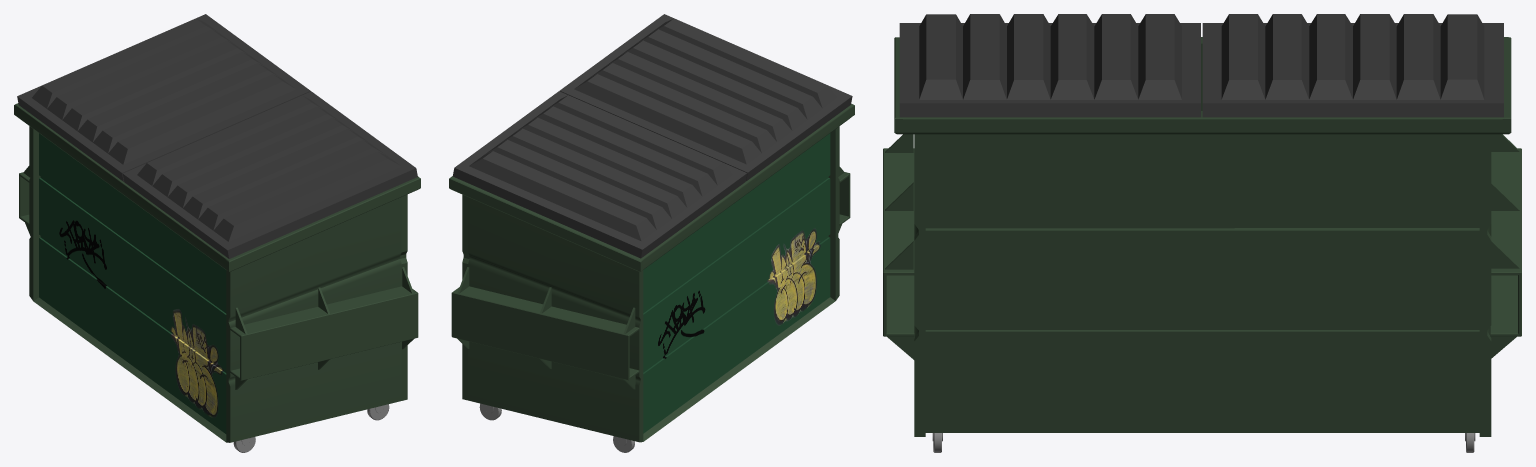
File: Poubelle_Unity1.fbx
3 views of the same model, side by side, from view 1: azimuth 30°, elevation 25°; view 2: azimuth 150°, elevation 25°; view 3: azimuth 270°, elevation 25° (orthographic). The views are drawn at different scales.
Visible parts, largest first — view 1: polySurface25, polySurface4, polySurface3, polySurface12, polySurface23; view 2: polySurface25, polySurface3, polySurface4, polySurface23, polySurface12; view 3: polySurface25, polySurface3, polySurface4, polySurface12, polySurface23.
Part boxes in pixels (<box>): polySurface25: <box>14,103,420,442</box>; polySurface4: <box>123,91,417,258</box>; polySurface3: <box>17,14,310,181</box>; polySurface12: <box>230,286,418,380</box>; polySurface23: <box>19,172,29,225</box>; polySurface25: <box>449,103,854,442</box>; polySurface3: <box>452,91,747,258</box>; polySurface4: <box>559,14,852,181</box>; polySurface23: <box>451,286,639,380</box>; polySurface12: <box>838,172,850,225</box>; polySurface25: <box>894,37,1511,436</box>; polySurface3: <box>1202,14,1503,117</box>; polySurface4: <box>899,14,1200,117</box>; polySurface12: <box>883,148,914,336</box>; polySurface23: <box>1490,148,1521,336</box>.
Size of the model in its own units: 16.94 by 22.1 by 34.03.
4 materials, 1 textured.
